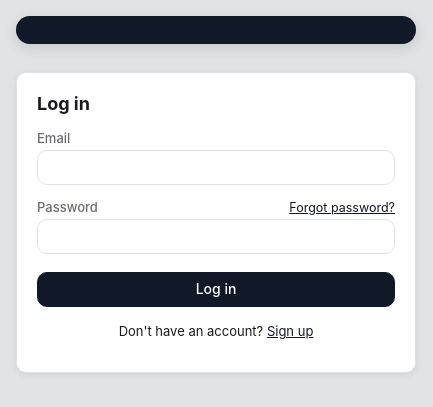
Scenario: CustomerLoginPage › shows one generic error when both logins fail, never the dashboard-specific reason
In the field labelled "Email": [216, 168] box 37,150 -> 395,185, type "someone@example.com"
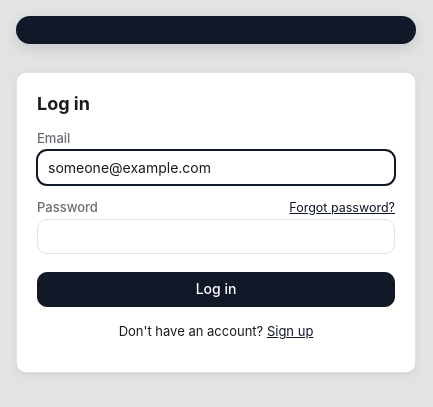
In the password field labelled "Password": [216, 236] box 37,219 -> 395,254, type "whatever-password"
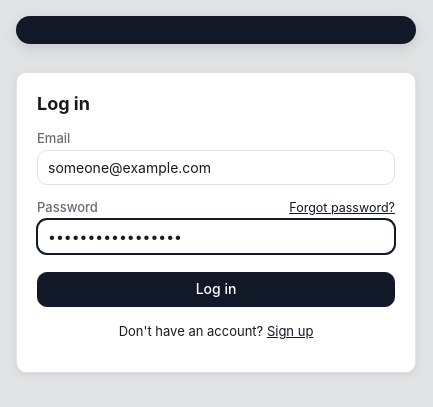
Click the button "Log in": [216, 289] box 37,272 -> 395,307
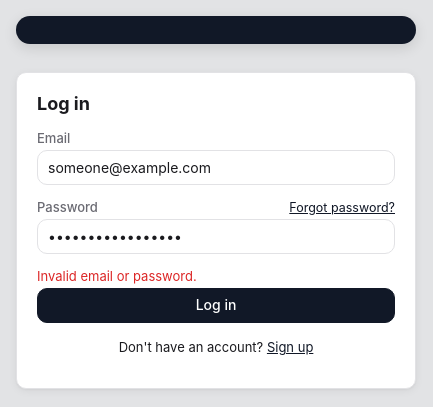
Result: the text "Invalid email or password." is shown at 37,268 -> 197,284
